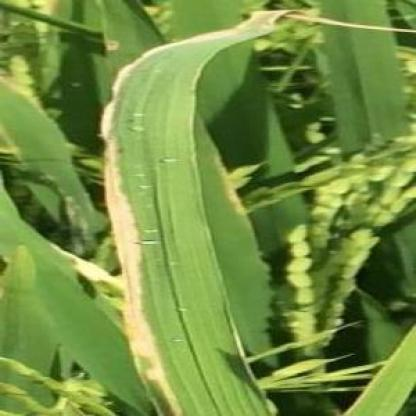Blight: (94, 15, 288, 416)
